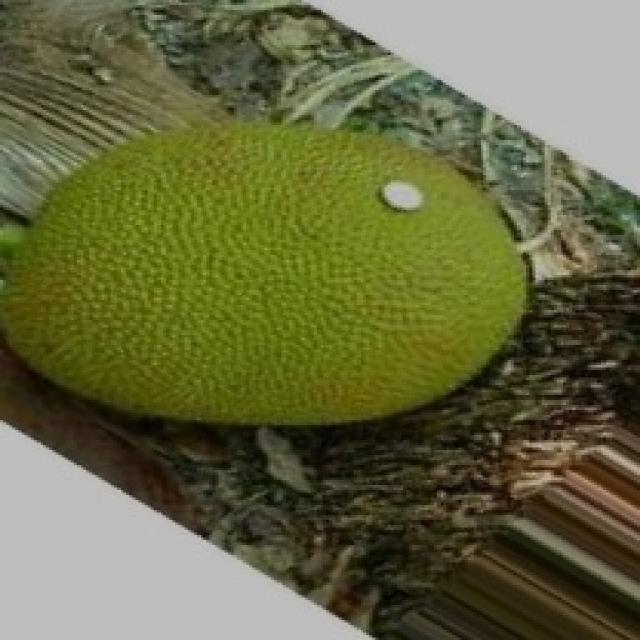Fruit: (175, 70, 554, 455)
